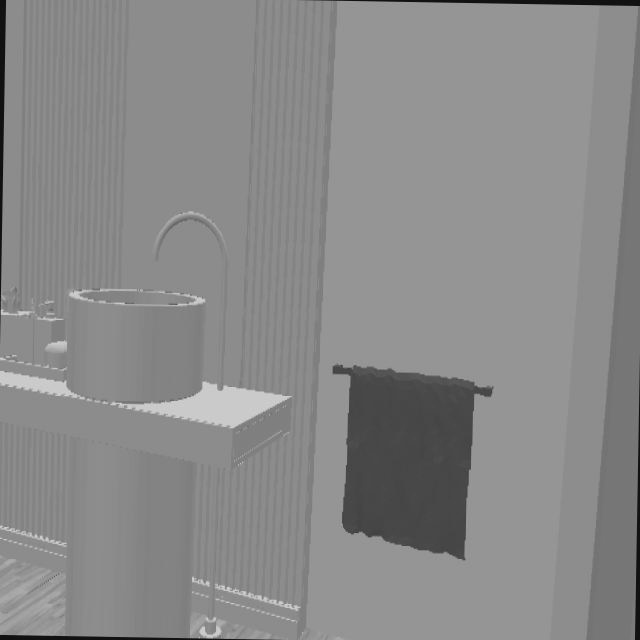washbasin: (64, 287, 207, 407)
